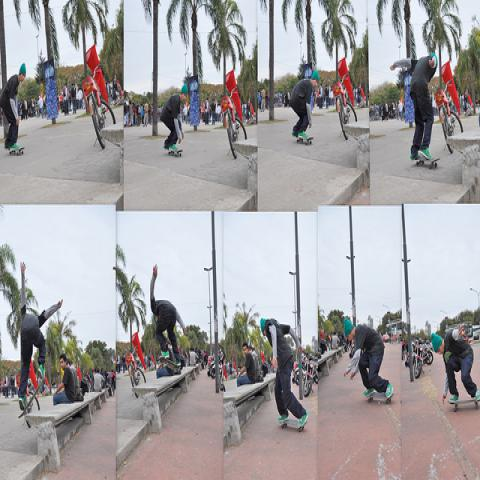motorcycle: (302, 357, 318, 396), (412, 338, 424, 379)
